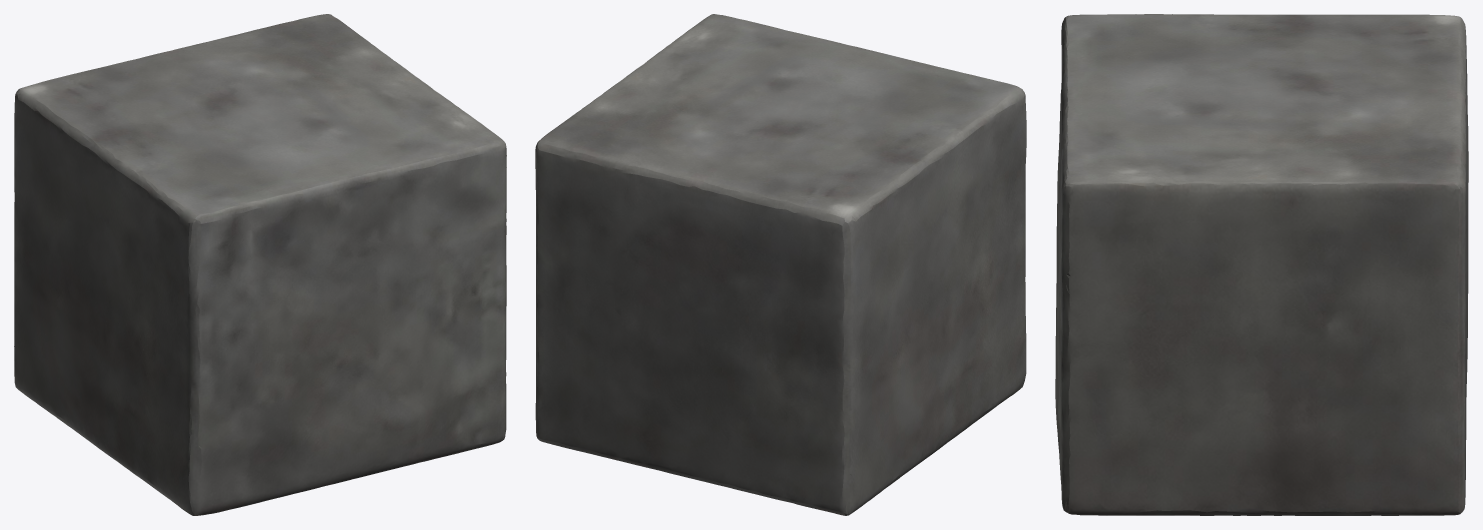
The picture shows the model from 3 angles, left to right: view 1: azimuth 30°, elevation 25°; view 2: azimuth 150°, elevation 25°; view 3: azimuth 270°, elevation 25°; orthographic projection. The views are drawn at different scales.
Parts seen in each view (by area): view 1: Mesh; view 2: Mesh; view 3: Mesh.
Part boxes in pixels (bbox=[...]): Mesh: bbox=[14, 14, 506, 515]; Mesh: bbox=[535, 14, 1026, 515]; Mesh: bbox=[1055, 14, 1468, 515].
Size of the model in its own units: 1.88 by 1.71 by 1.89.
Materials: 1 (1 with a texture image).
